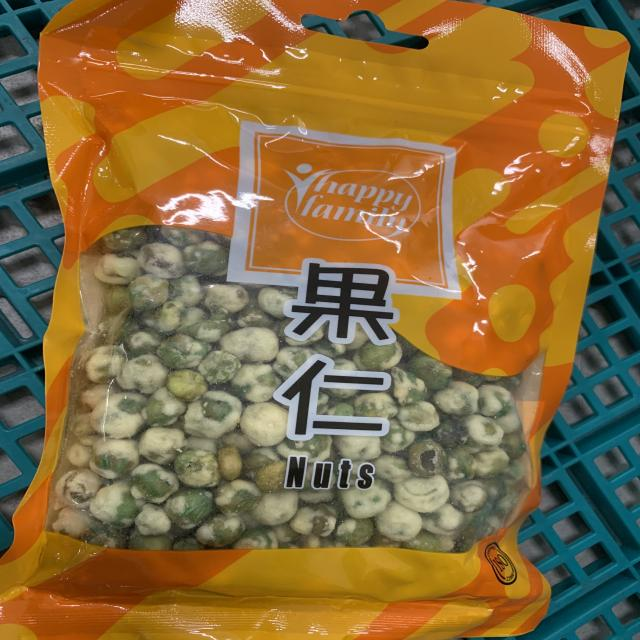object_name: (78, 0, 542, 639)
